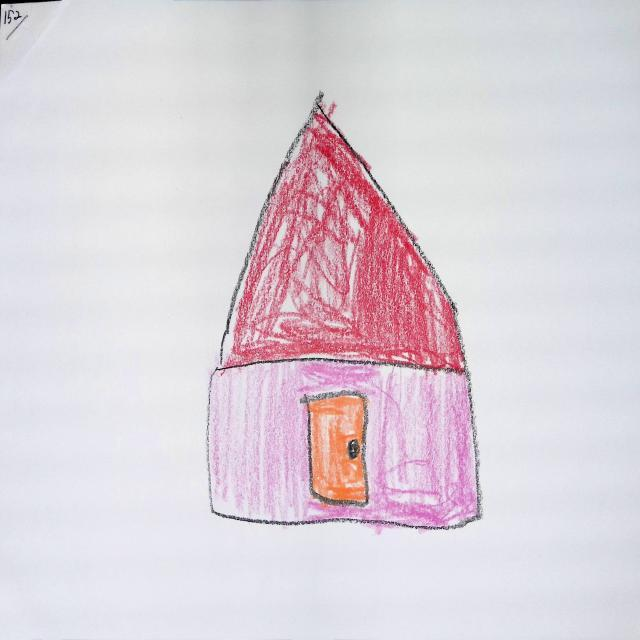door: (310, 395, 368, 504)
house: (209, 95, 481, 530)
roof: (222, 100, 466, 373)
wall: (209, 357, 482, 534)
